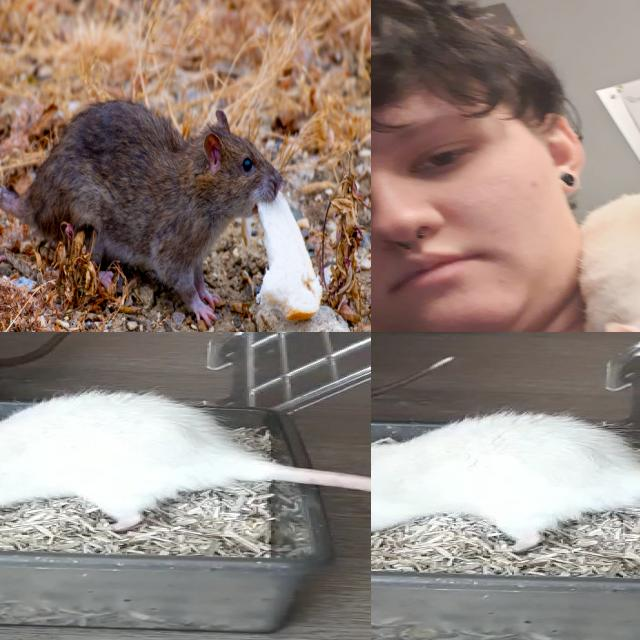rat: (19, 106, 279, 314), (0, 387, 250, 538), (371, 413, 640, 550), (576, 190, 640, 332)
